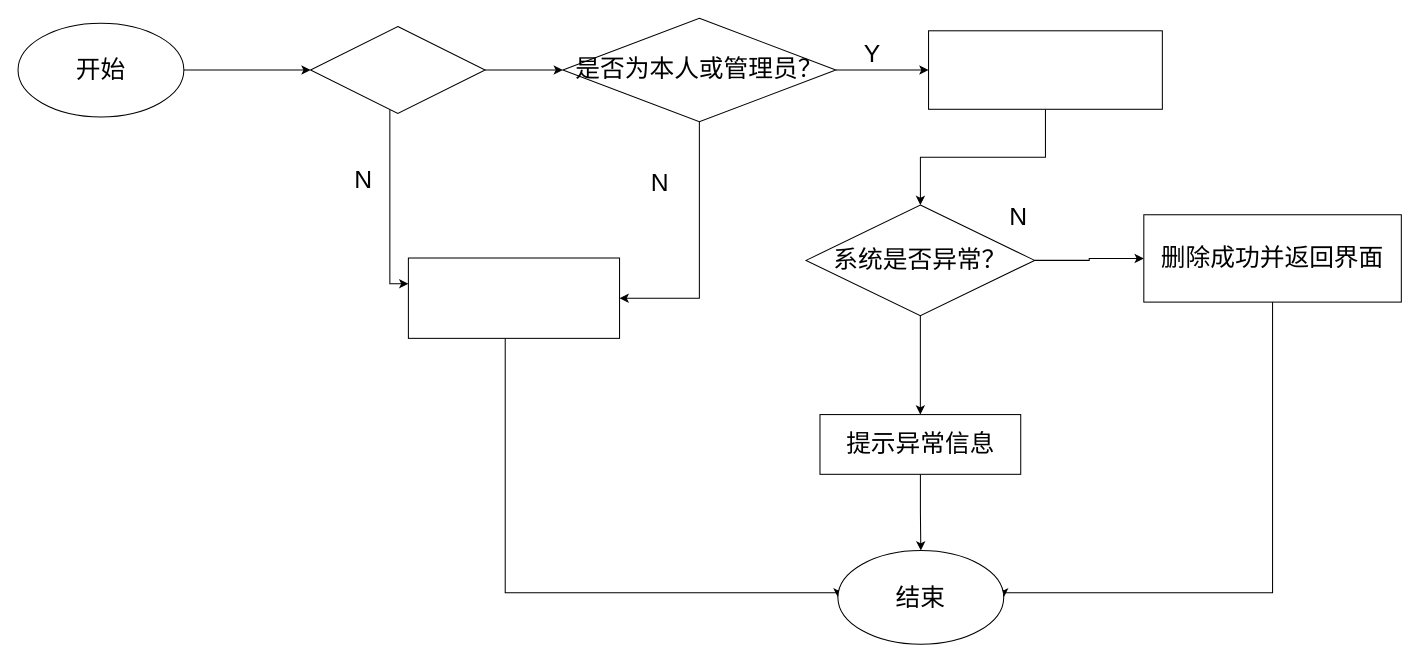
This 1419x662 diagram has some shape labels left out. Here are the shapes that lost their labels. From the top down, the box of each, then its label:
(310, 25, 485, 114): 是否登录？
(928, 30, 1162, 109): 点击“删除博客”按钮
(407, 257, 620, 338): 没有删除博客权限
